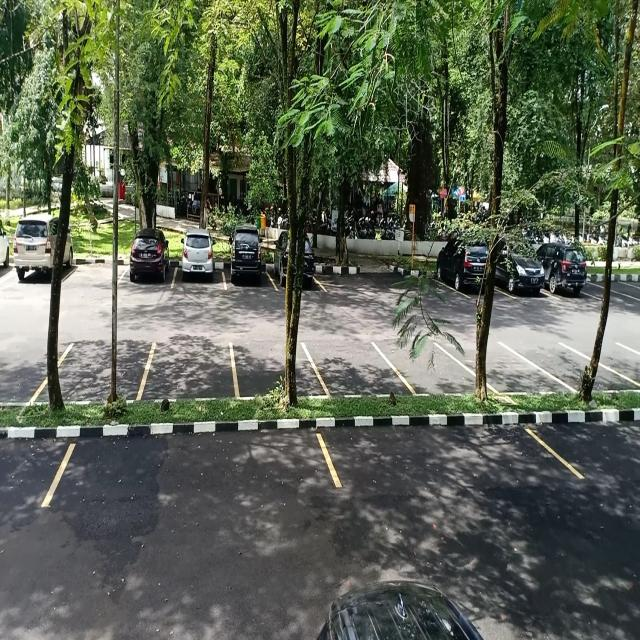empty: (58, 412, 334, 515), (333, 409, 557, 489), (54, 339, 150, 399), (148, 338, 237, 398), (234, 335, 318, 395), (392, 332, 466, 397), (466, 335, 539, 397), (314, 339, 391, 394), (540, 334, 605, 390), (67, 246, 121, 292)
occupied: (498, 243, 548, 301), (172, 237, 226, 290), (435, 245, 488, 298), (122, 238, 174, 292), (225, 233, 272, 290)
